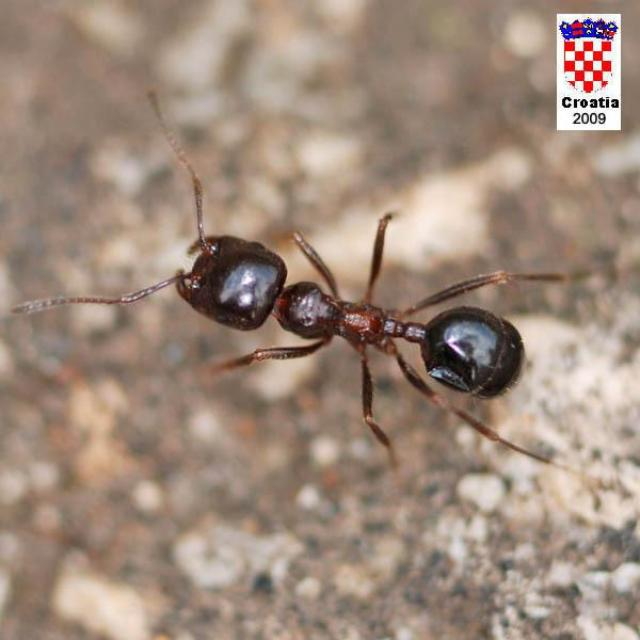Messor: (110, 166, 566, 452)
